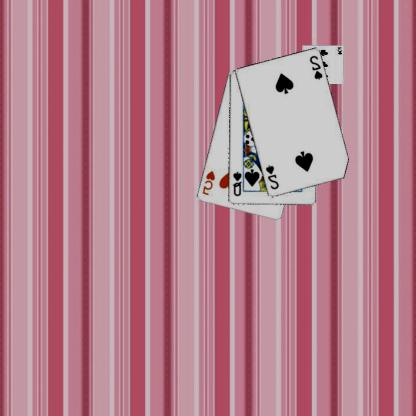2S: (308, 54, 326, 81), (265, 163, 281, 191)
5H: (202, 168, 218, 197)
QS: (232, 170, 245, 198)
